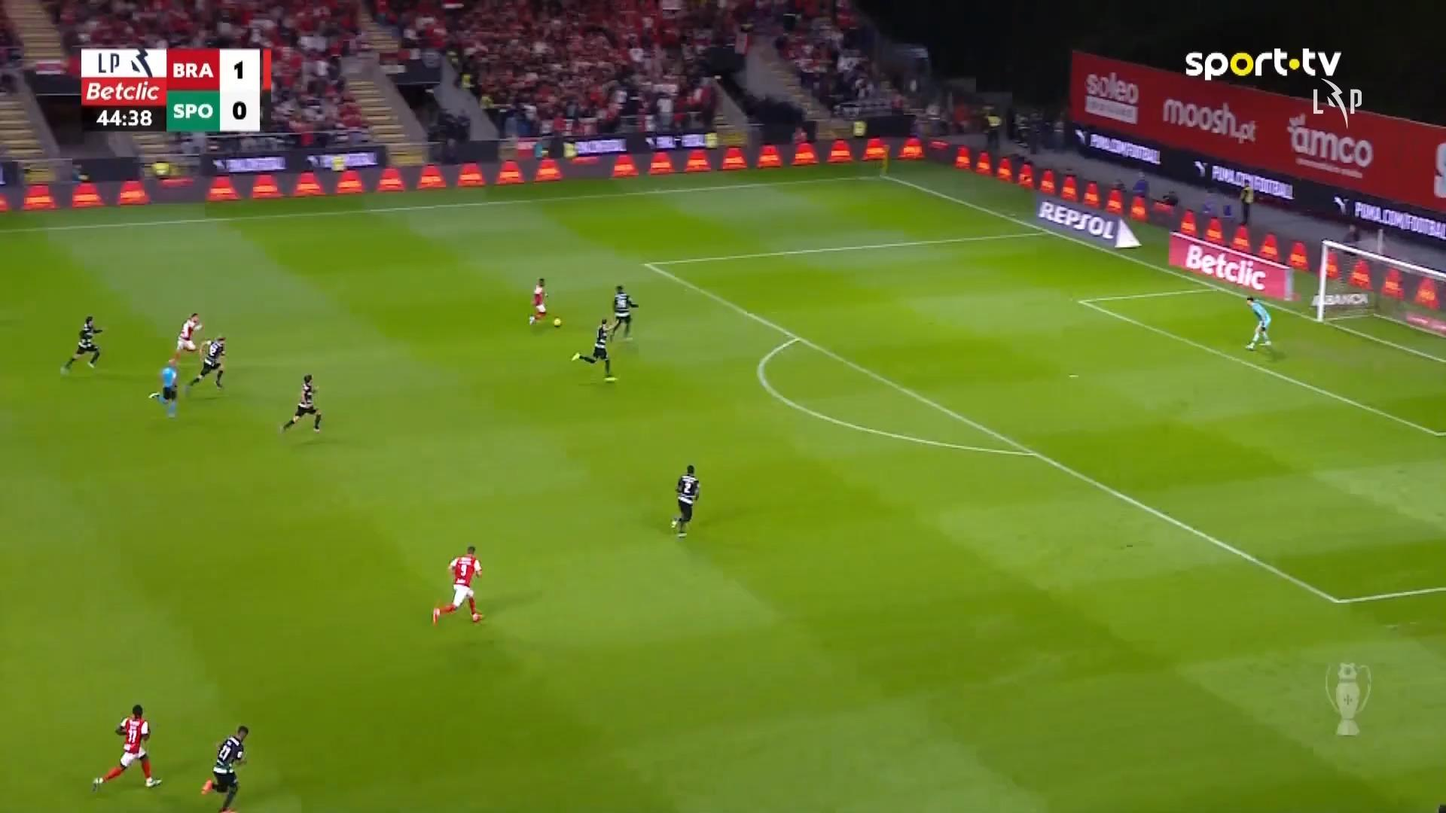ball: (552, 317, 560, 327)
goalkeeper: (1244, 294, 1272, 349)
player: (90, 703, 163, 792), (200, 723, 249, 811), (431, 544, 484, 625), (570, 318, 617, 382), (59, 314, 105, 374), (279, 373, 322, 433), (670, 463, 700, 537), (187, 334, 227, 389), (607, 283, 639, 341), (170, 311, 203, 367), (527, 276, 548, 324)
referee: (148, 358, 179, 417)
